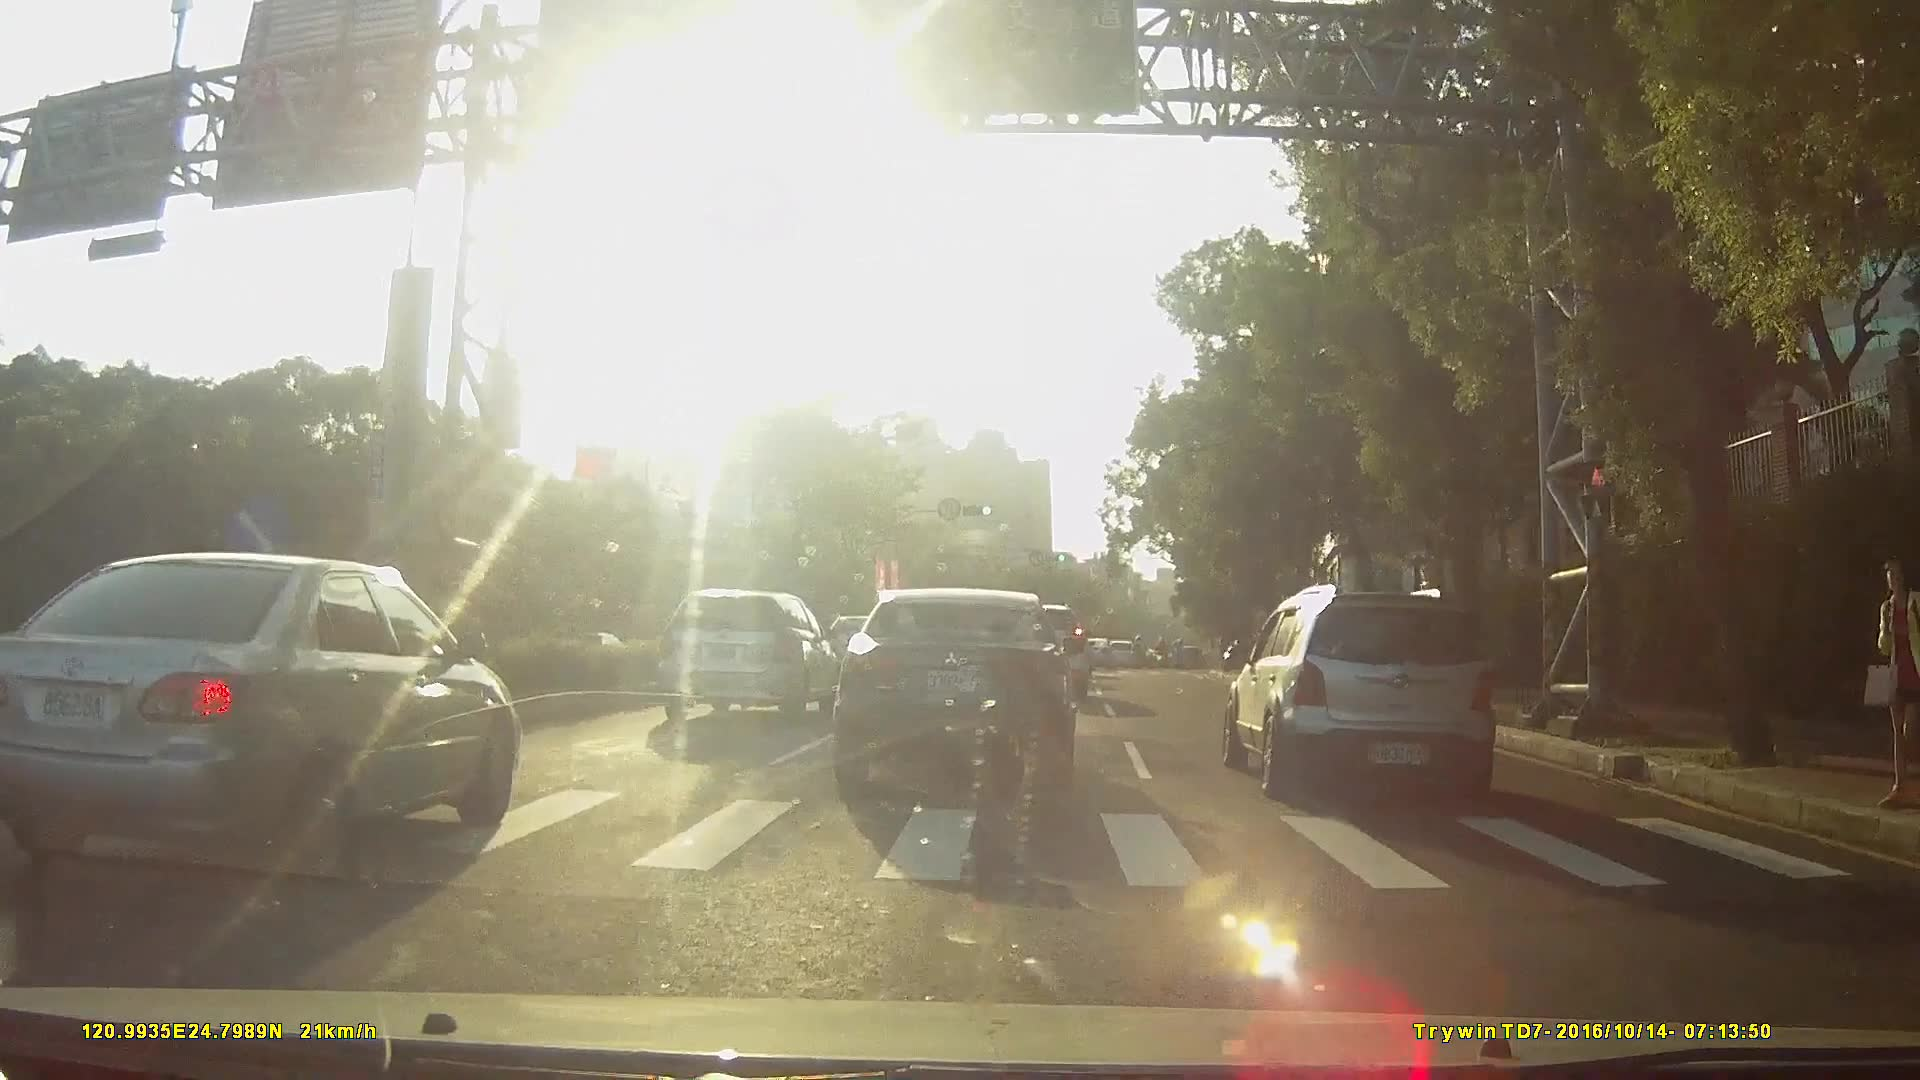pedestrian: (1857, 557, 1920, 808)
vehicle: (1, 548, 543, 895), (1207, 583, 1514, 809), (839, 591, 1091, 799), (647, 594, 837, 728), (1075, 640, 1110, 675), (1098, 646, 1134, 677)
